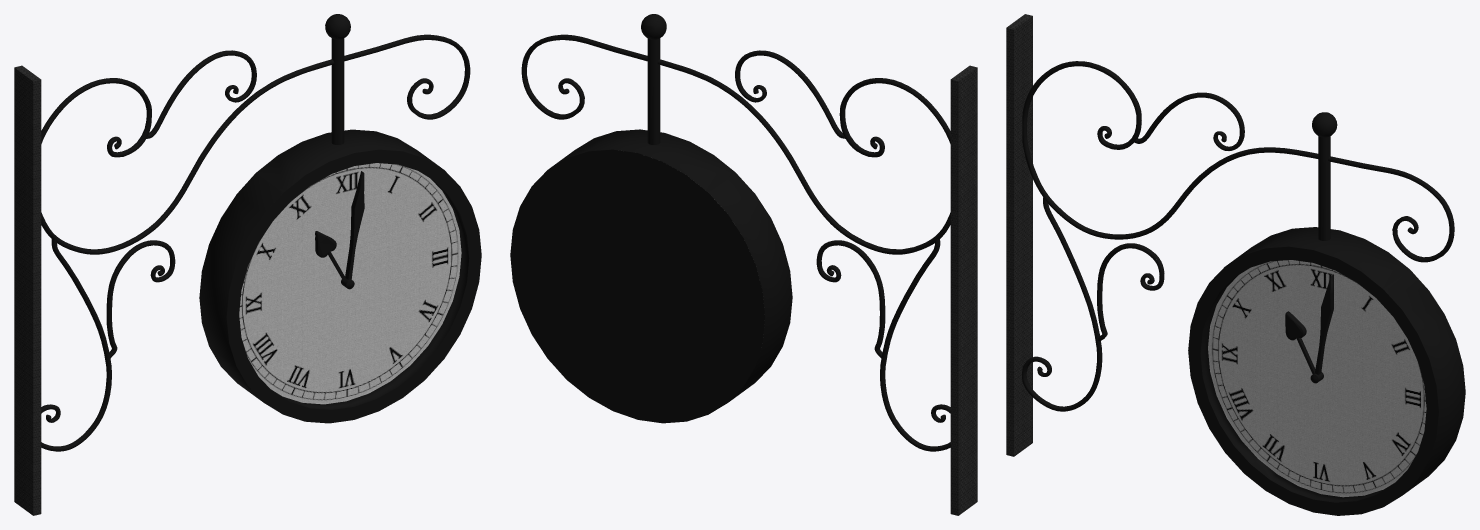
File: clock.fbx
The picture shows the model from 3 angles, left to right: view 1: azimuth 30°, elevation 25°; view 2: azimuth 150°, elevation 25°; view 3: azimuth 330°, elevation 25°; orthographic projection.
Parts seen in each view (by area): view 1: pCube4; view 2: pCube4; view 3: pCube4.
Part boxes in pixels (bbox=[...]): pCube4: bbox=[14, 14, 481, 515]; pCube4: bbox=[510, 14, 977, 515]; pCube4: bbox=[1006, 14, 1465, 515].
Size of the model in its own units: 149 by 139 by 15.95.
